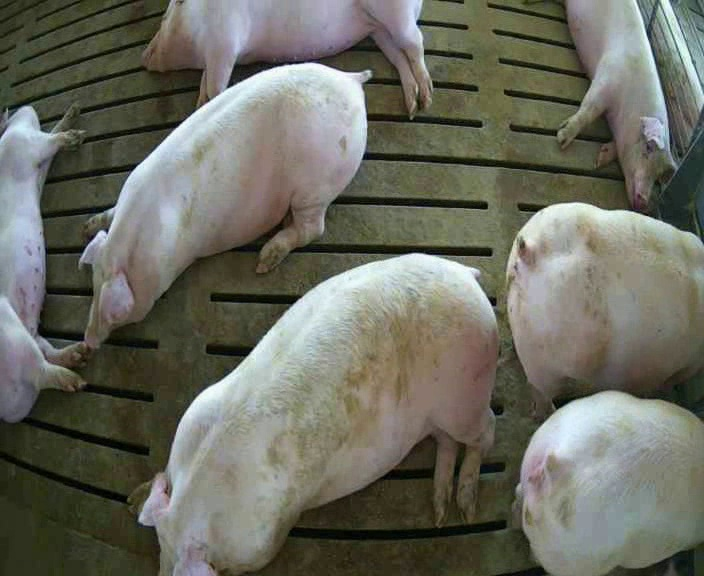pig: (127, 255, 497, 573), (80, 63, 370, 347), (507, 203, 703, 421), (517, 391, 703, 574), (142, 1, 432, 117), (0, 106, 86, 421), (557, 2, 675, 211)
